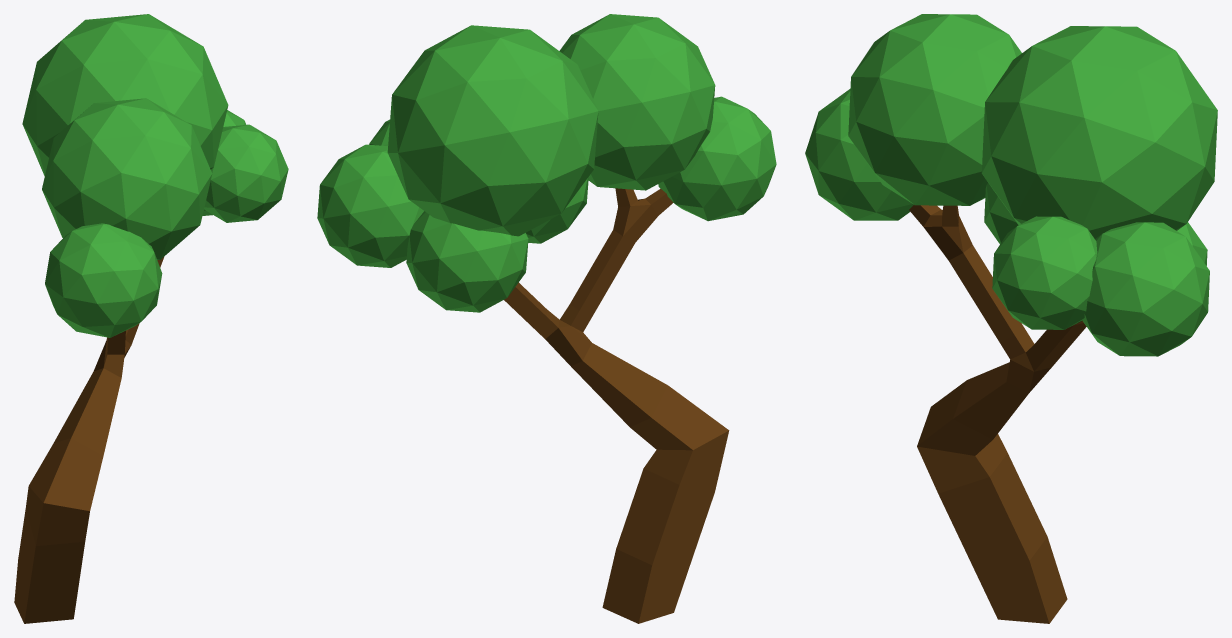
Rendered from Y_Tree.fbx.
3 views of the same model, side by side, from view 1: azimuth 30°, elevation 25°; view 2: azimuth 150°, elevation 25°; view 3: azimuth 270°, elevation 25° (orthographic). The views are drawn at different scales.
Visible parts, largest first — view 1: Tree.004; view 2: Tree.004; view 3: Tree.004.
Boxes of the visible parts, x1,y1,x2,y2 form: Tree.004: (14,14,288,623); Tree.004: (317,14,776,623); Tree.004: (805,14,1217,623).
Bounding box in the file's own units: 352 × 591 × 344.
